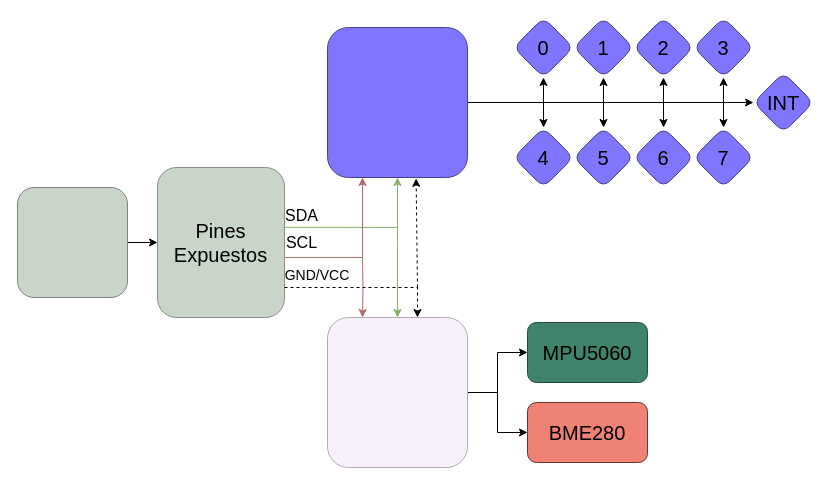
Image size: 831x485. Some labels were removed from this diagram. The shapes that lost their labels are listed below. From the top down, each one's box as (x1, y1, x2, y2) in pixels, then its label:
(326, 26, 468, 178): PCF8574 (modulo expansor)
(16, 186, 128, 298): ESP32
(326, 316, 468, 468): Adaptador
